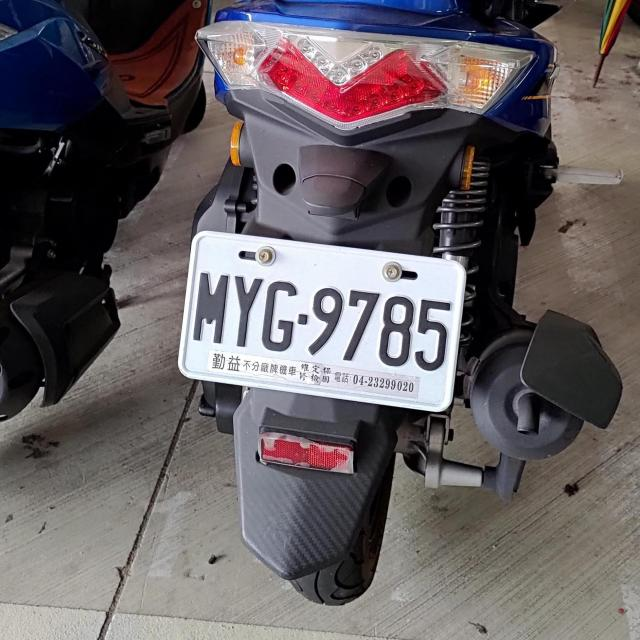W: (174, 229, 468, 404)
